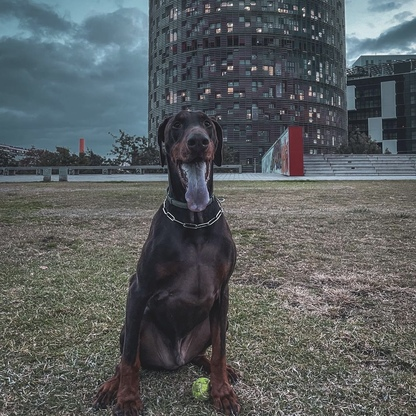doberman: (103, 110, 248, 407)
